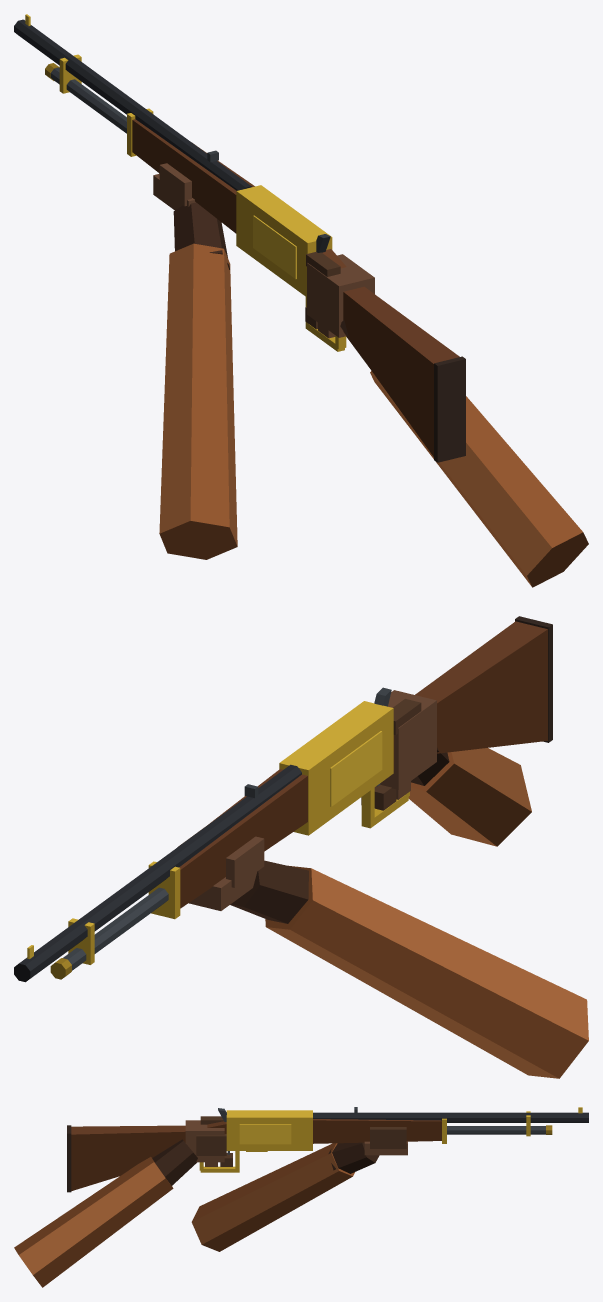
The model's file is rifle.glb.
3 renders of one model, top to bottom at view 1: azimuth 30°, elevation 25°; view 2: azimuth 150°, elevation 25°; view 3: azimuth 270°, elevation 25°, orthographic. The views are drawn at different scales.
Visible parts, largest first — view 1: lever-action; view 2: lever-action; view 3: lever-action.
Part boxes in pixels (x1,y1,x2,y2): lever-action: (14, 14, 588, 587); lever-action: (14, 616, 588, 1078); lever-action: (14, 1107, 588, 1287).
Size of the model in its own units: 0.4495 by 0.46 by 1.33.
